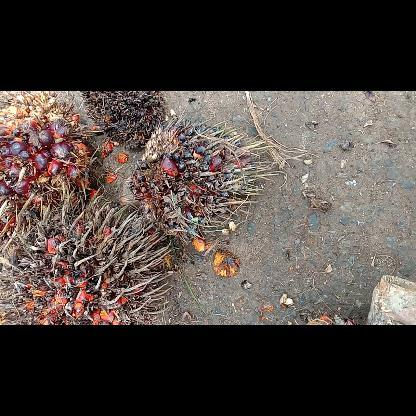TBS abnormal: (119, 117, 274, 255), (79, 92, 169, 152)
TBS masak: (0, 91, 99, 241)
Terlalu masak: (7, 196, 170, 324)
